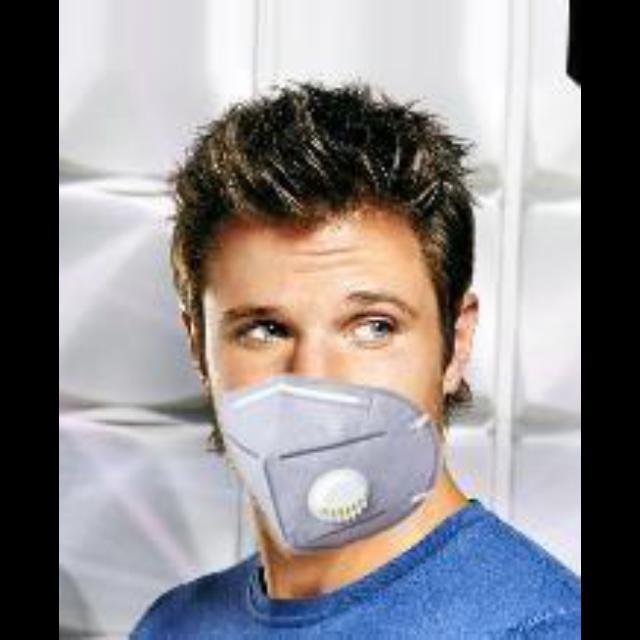suspicion: (196, 158, 494, 564)
